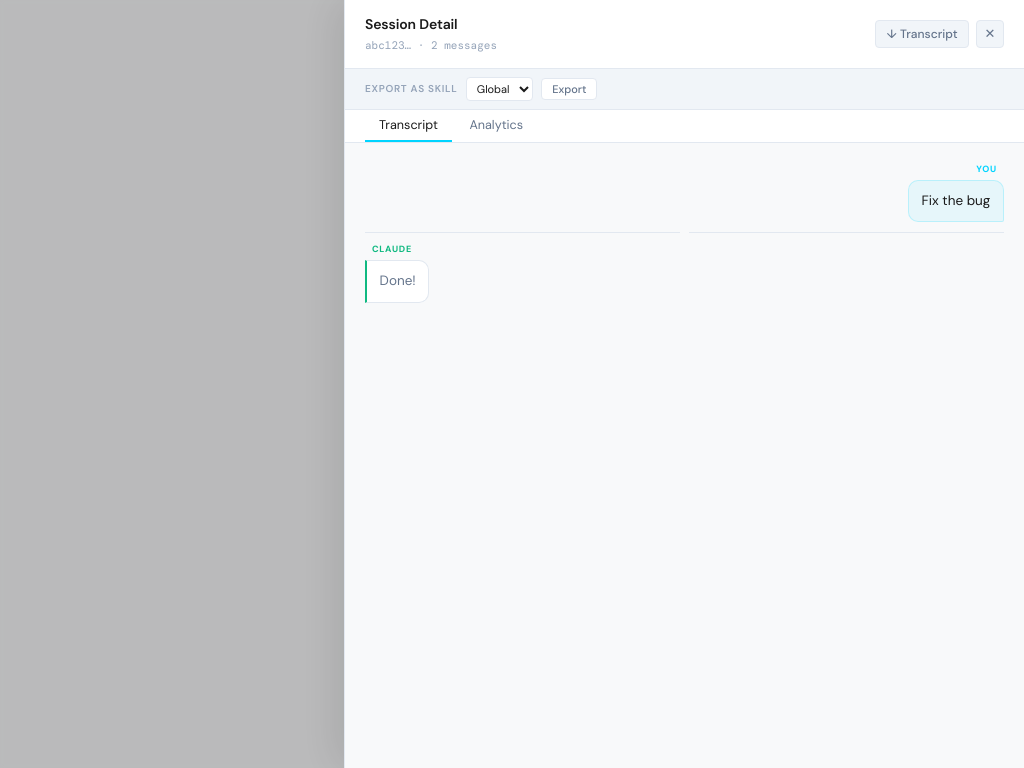
Scenario: SessionDetail › shows skill name on successful export
The width and height of the screenshot is (1024, 768).
What coordinates should you click on to do the following:
click the button "Export"
I would click on:
 (569, 88)
Its box is [541,78,597,100].
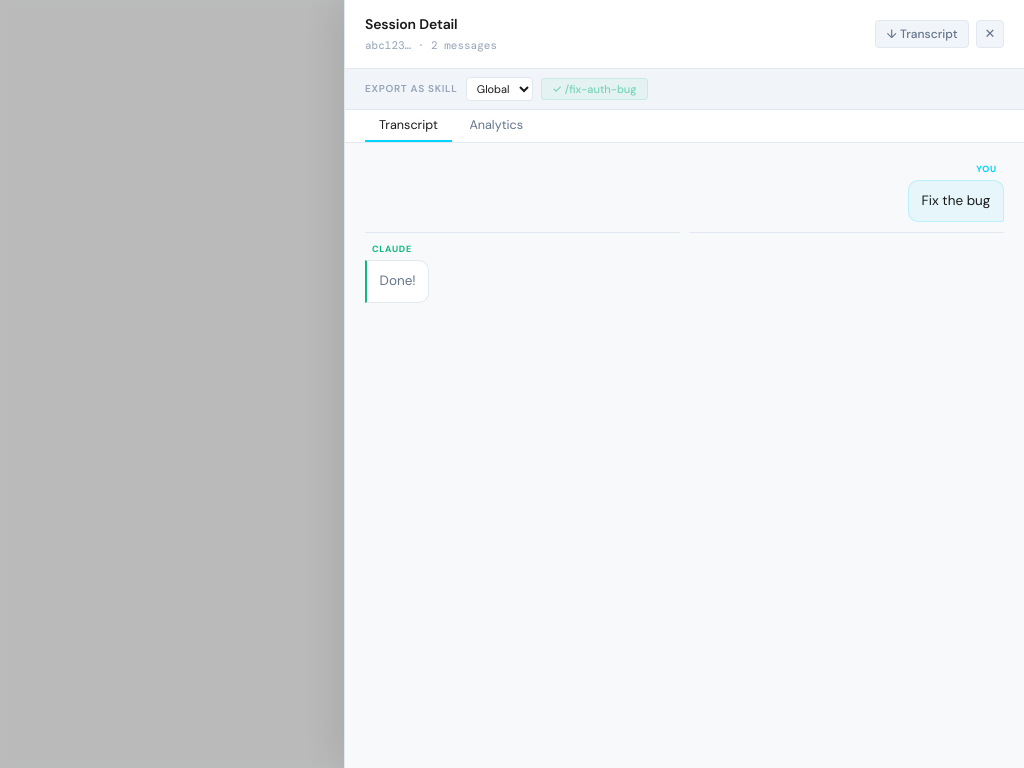
Result: the button "✓ /fix-auth-bug" is shown at [541,78,648,100]
